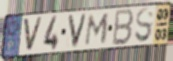4: (42, 14, 60, 52)
B: (111, 8, 135, 47)
M: (84, 12, 111, 47)
S: (134, 7, 155, 45)
V: (67, 12, 89, 50), (22, 17, 44, 53)
